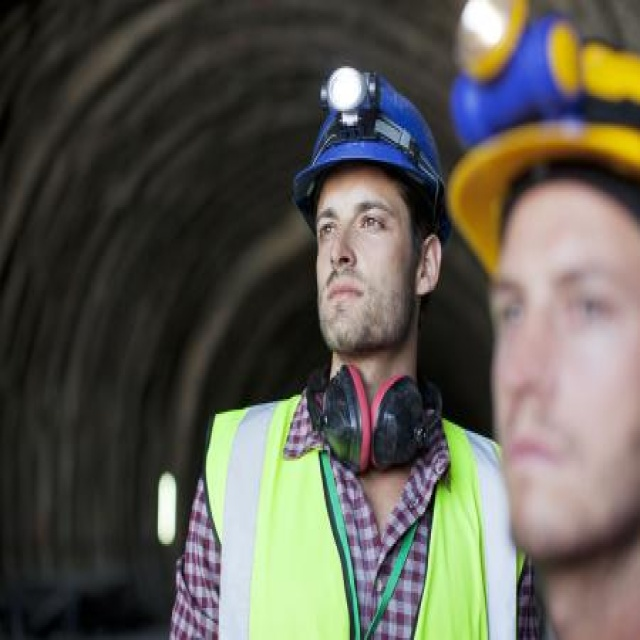Helmet: (267, 51, 464, 369)
Reflective vest: (200, 393, 529, 640)
